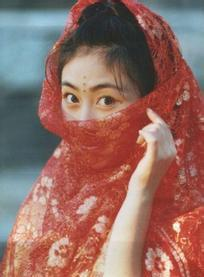WRONG: (61, 71, 127, 153)
